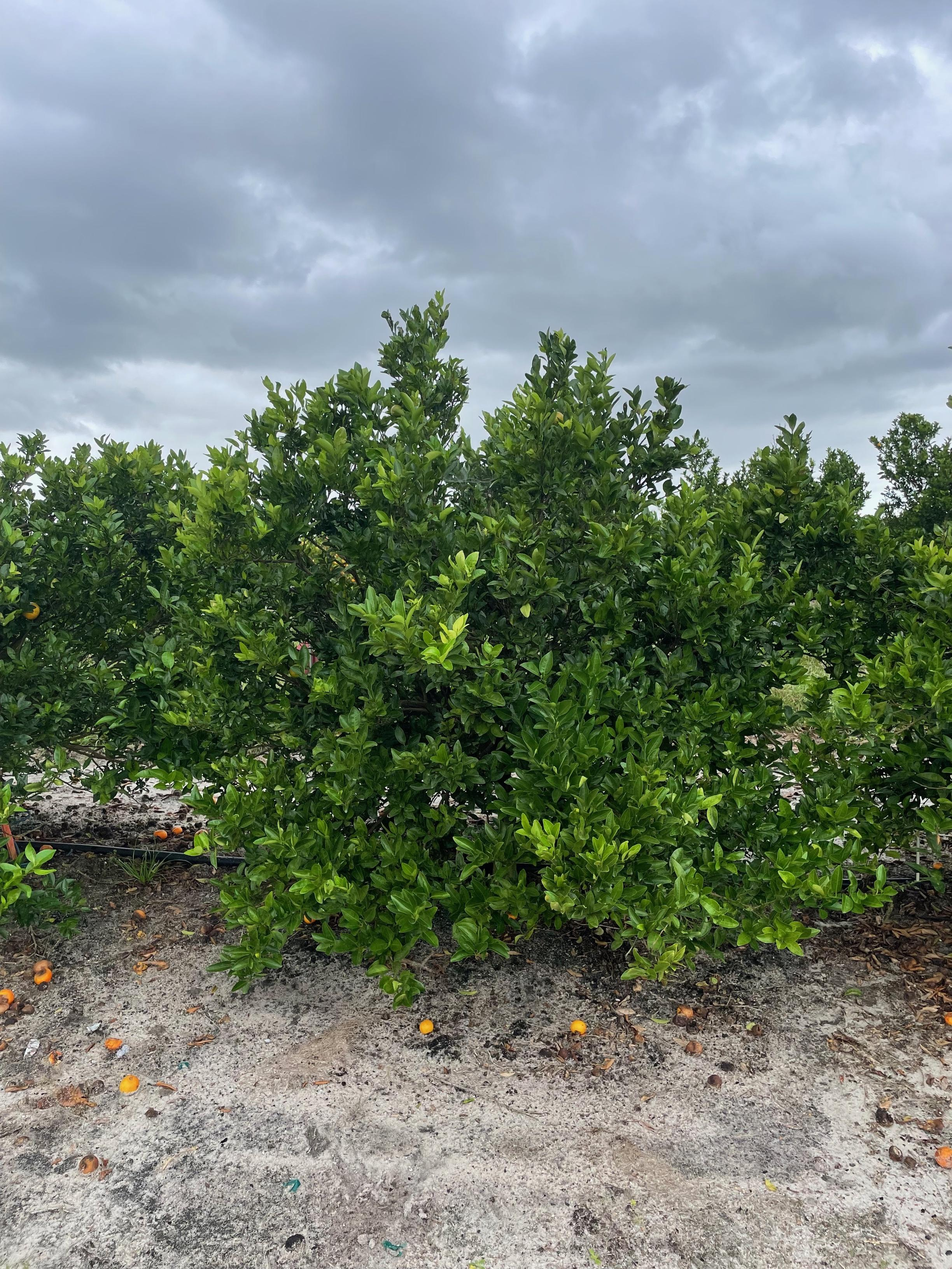fruit_on_ground: (21, 601, 41, 621), (287, 663, 305, 680), (549, 410, 566, 427), (390, 404, 405, 418)
fruit_on_tree: (118, 1072, 141, 1096), (77, 1153, 100, 1175), (933, 1144, 952, 1169), (31, 957, 56, 974), (33, 967, 54, 986), (705, 1072, 726, 1091), (568, 1018, 589, 1037), (417, 1016, 436, 1036), (684, 1038, 704, 1056), (1, 987, 18, 1005), (38, 841, 56, 855), (940, 1009, 952, 1027), (301, 912, 317, 925), (133, 907, 148, 920), (154, 827, 169, 840), (172, 823, 184, 835)
